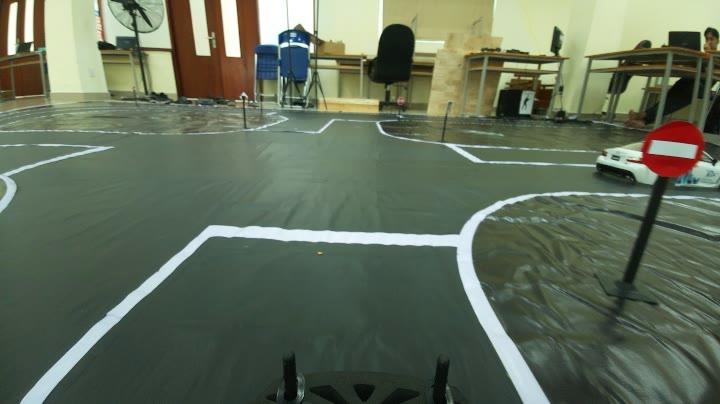no_entry: (642, 114, 702, 185)
